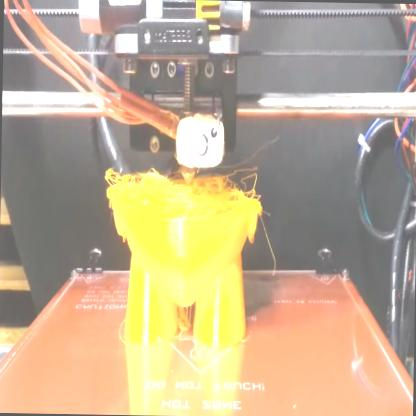fail: (100, 161, 270, 212)
